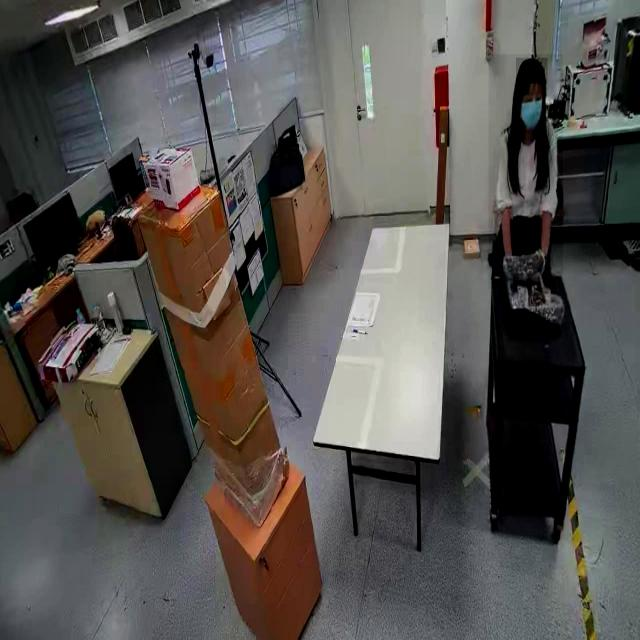face_mask: (516, 95, 546, 130)
head_nohelmet: (516, 58, 548, 84)
person: (488, 54, 563, 290)
